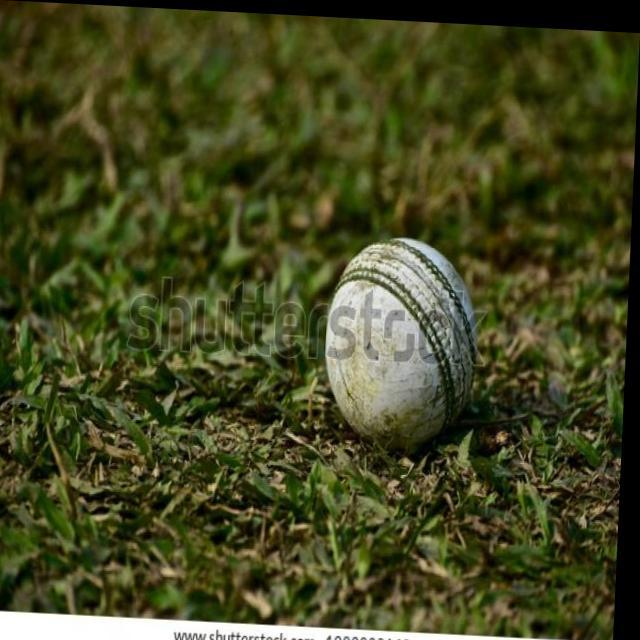cricket ball: (330, 234, 482, 444)
